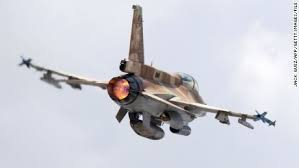fighter: (16, 2, 281, 142)
